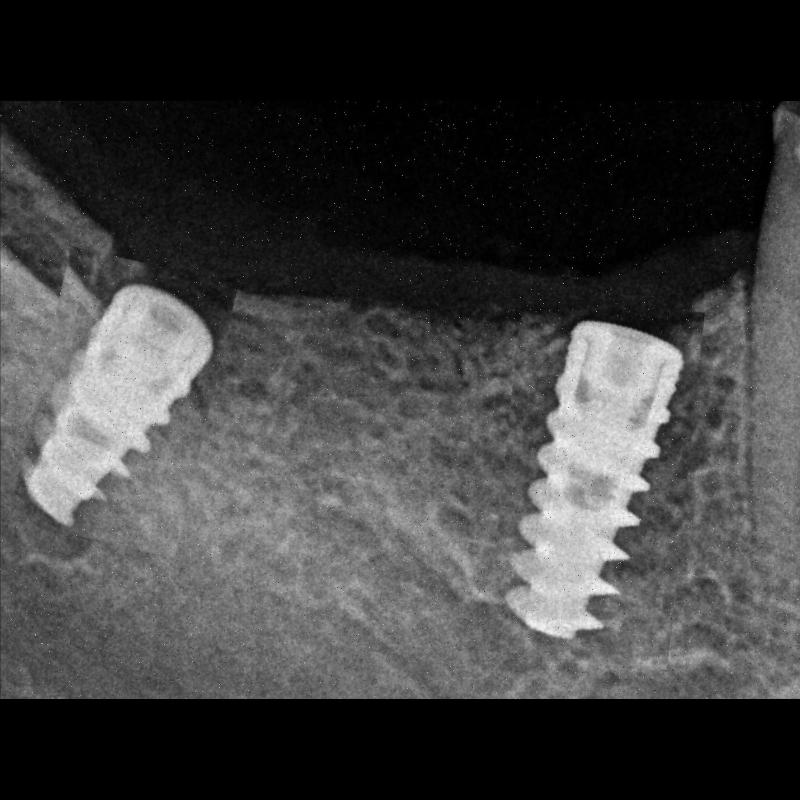ADIN: (494, 299, 694, 666), (23, 254, 223, 550)
